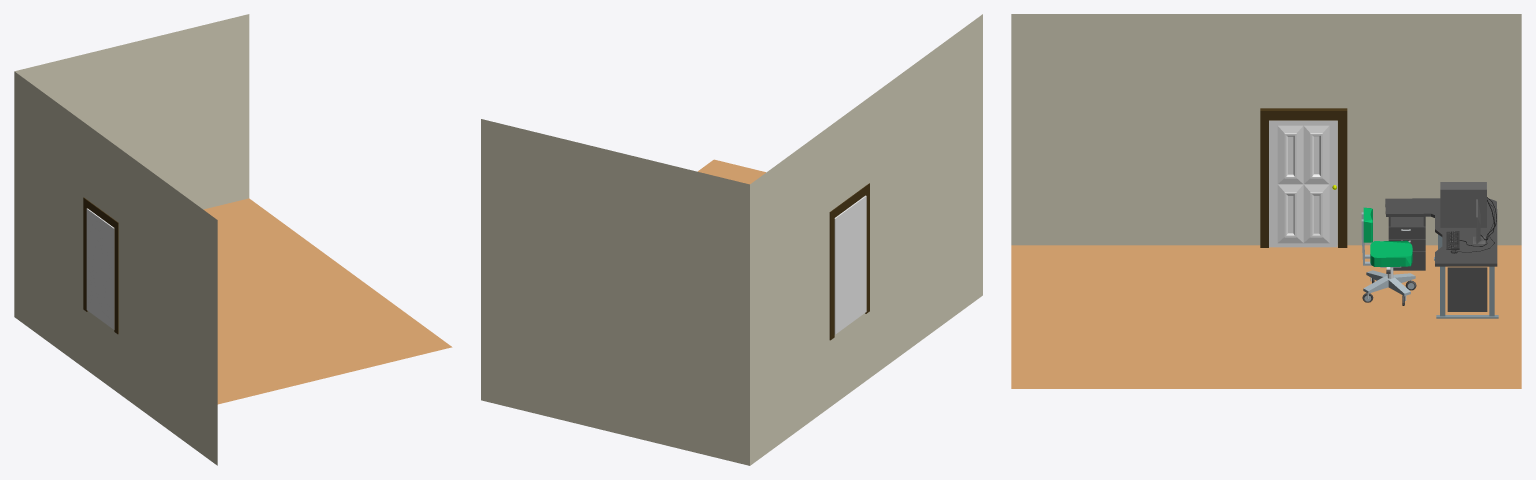
The model's file is room.glb.
3 views of the same model, side by side, from view 1: azimuth 30°, elevation 25°; view 2: azimuth 150°, elevation 25°; view 3: azimuth 270°, elevation 25° (orthographic). The views are drawn at different scales.
Visible parts, largest first — view 1: Back Wall, Floor, Side Wall, Door; view 2: Side Wall, Back Wall, Door, Floor; view 3: Back Wall, Floor, Door, DeskSurface, Computer, DeskWall.001, ChairSeat, ChairBaseX.
Boxes of the visible parts, left/top/right/bottom form: Back Wall: left=14, top=71, right=217, bottom=465; Floor: left=203, top=198, right=452, bottom=404; Side Wall: left=15, top=14, right=249, bottom=209; Door: left=83, top=197, right=118, bottom=334; Side Wall: left=481, top=119, right=749, bottom=465; Back Wall: left=750, top=14, right=982, bottom=465; Door: left=829, top=183, right=869, bottom=340; Floor: left=698, top=159, right=765, bottom=184; Back Wall: left=1011, top=14, right=1521, bottom=245; Floor: left=1011, top=245, right=1521, bottom=388; Door: left=1260, top=108, right=1347, bottom=247; DeskSurface: left=1385, top=198, right=1497, bottom=266; Computer: left=1440, top=182, right=1496, bottom=253; DeskWall.001: left=1447, top=267, right=1487, bottom=311; ChairSeat: left=1370, top=240, right=1412, bottom=266; ChairBaseX: left=1363, top=270, right=1415, bottom=295.
Size of the model in its own units: 6.03 by 6 by 9.
Materials: 14 (1 with a texture image).
